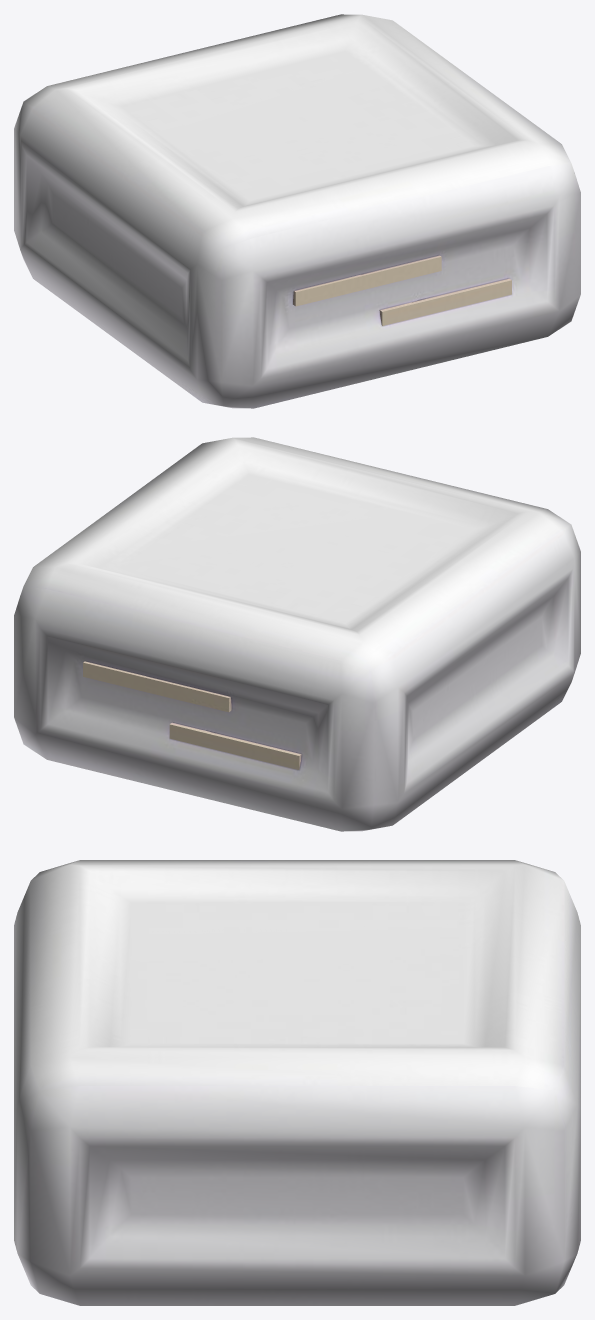
Rendered from kalas1.glb.
The picture shows the model from 3 angles, top to bottom: view 1: azimuth 30°, elevation 25°; view 2: azimuth 150°, elevation 25°; view 3: azimuth 270°, elevation 25°; orthographic projection. The views are drawn at different scales.
Parts seen in each view (by area): view 1: kalas1; view 2: kalas1; view 3: kalas1.
Boxes of the visible parts, x1,y1,x2,y2 form: kalas1: (14, 14, 580, 408); kalas1: (14, 437, 580, 831); kalas1: (14, 860, 580, 1305).
Bounding box in the file's own units: 1.52 × 0.7402 × 1.52.
Materials: 1 (1 with a texture image).
